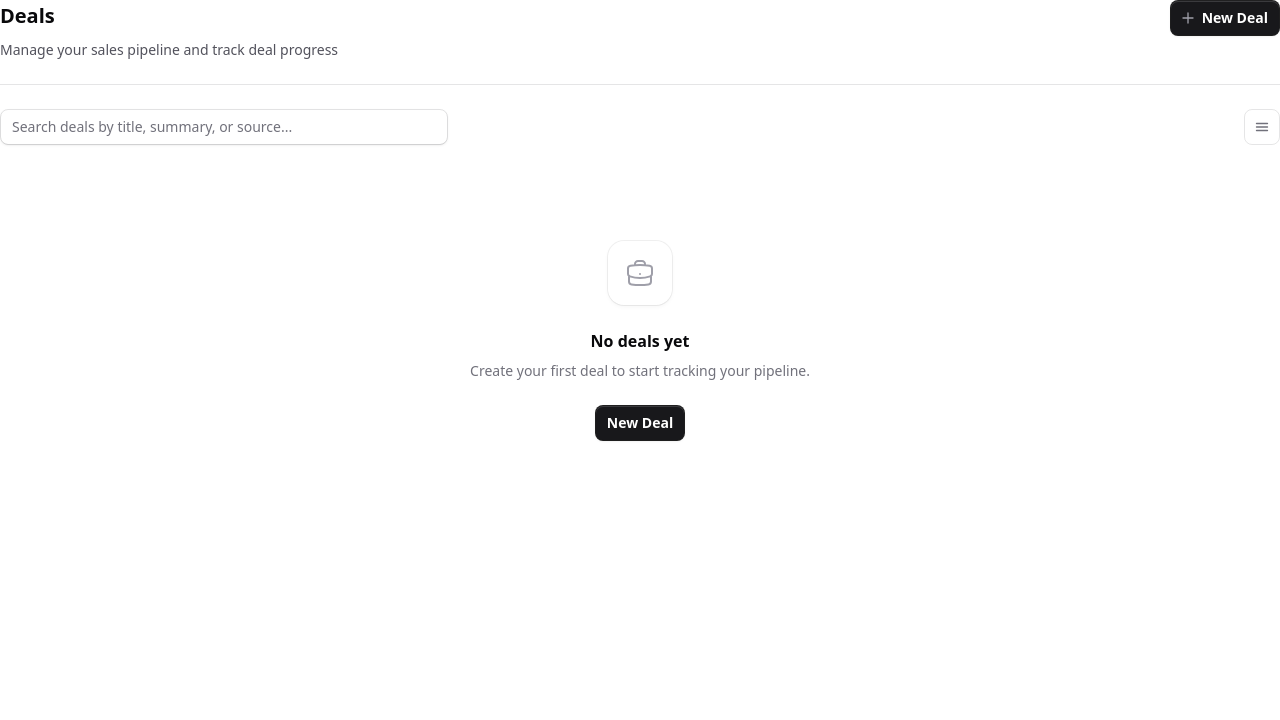
Test: DealsList › opens new deal sheet when "New Deal" button is clicked
This screenshot has width=1280, height=720.
Click the 1st button "New Deal".
click(1225, 18)  # box [1170,0,1279,36]
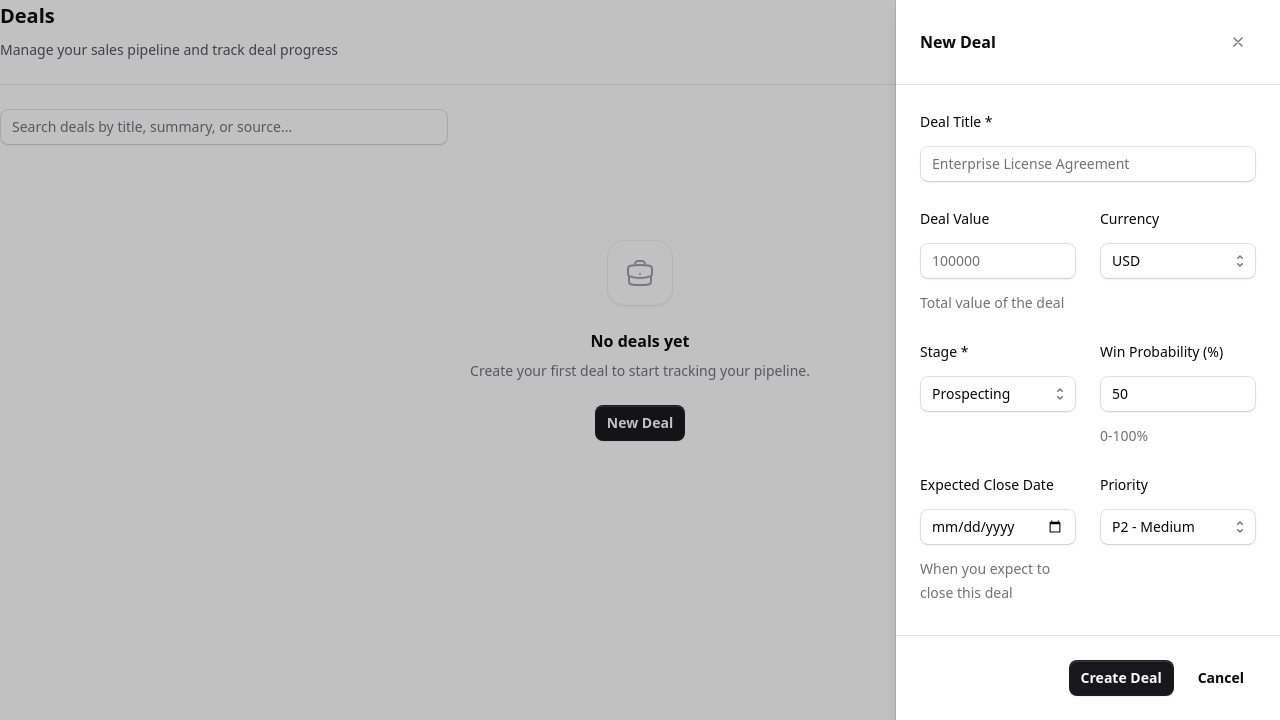
Now the heading "New Deal" is shown, box [920,30,996,54]
